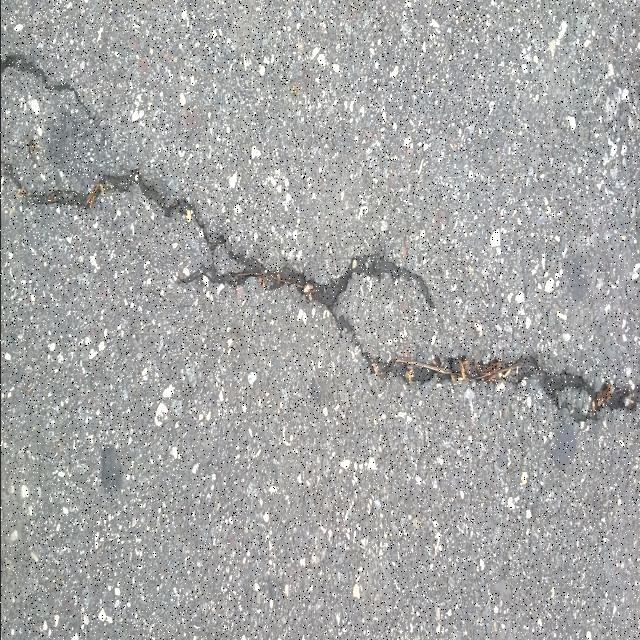Crack: (0, 161, 640, 423), (0, 52, 94, 121)
